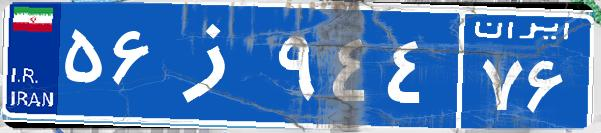4: (385, 28, 445, 110), (330, 28, 385, 110)
5: (57, 26, 110, 107)
6: (110, 28, 158, 105), (525, 38, 570, 115)
7: (475, 38, 525, 113)
9: (273, 28, 330, 110)
ز: (158, 15, 273, 115)
